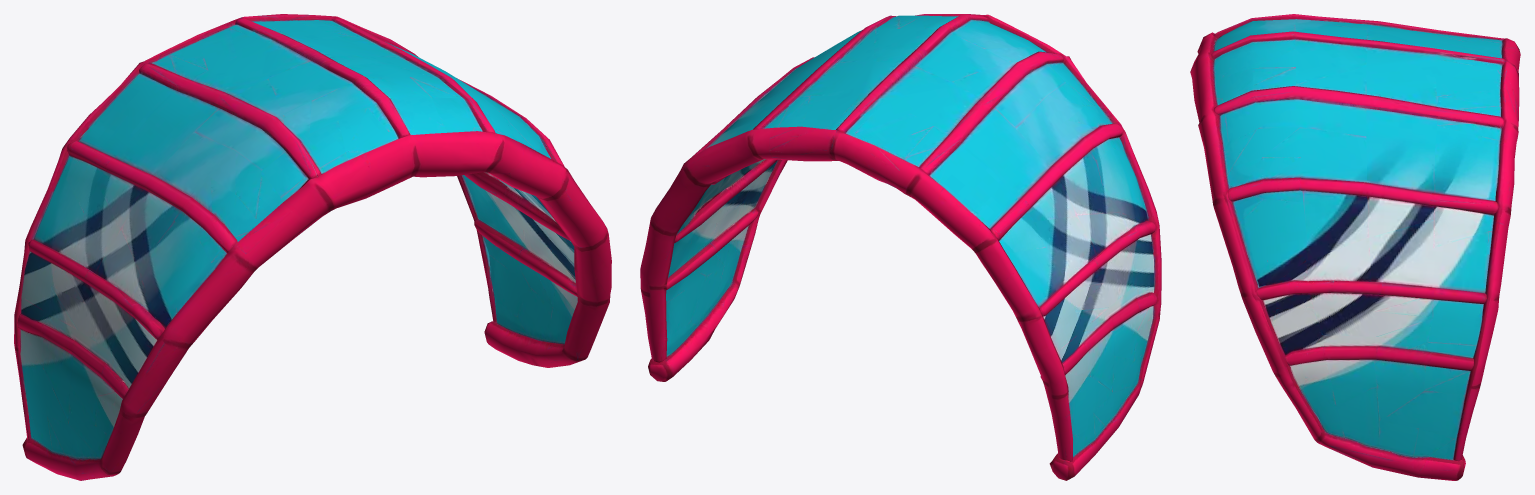
Rendered from kite.glb.
3 renders of one model, left to right at view 1: azimuth 30°, elevation 25°; view 2: azimuth 150°, elevation 25°; view 3: azimuth 270°, elevation 25°, orthographic. The views are drawn at different scales.
Bounding box in the file's own units: 1 × 0.777 × 0.6709.
Materials: 1 (1 with a texture image).
